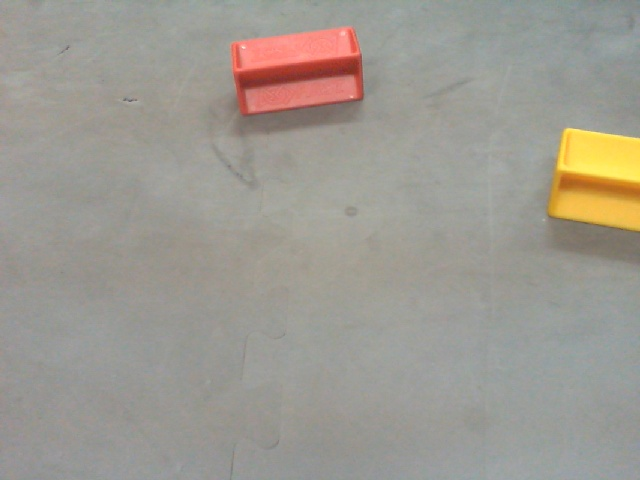RedSample: (229, 27, 367, 117)
YellowSample: (545, 126, 640, 236)
